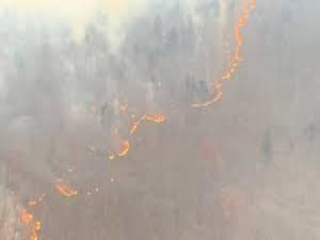fire: (195, 2, 256, 108), (106, 109, 169, 158), (14, 188, 51, 236), (56, 176, 78, 199)
